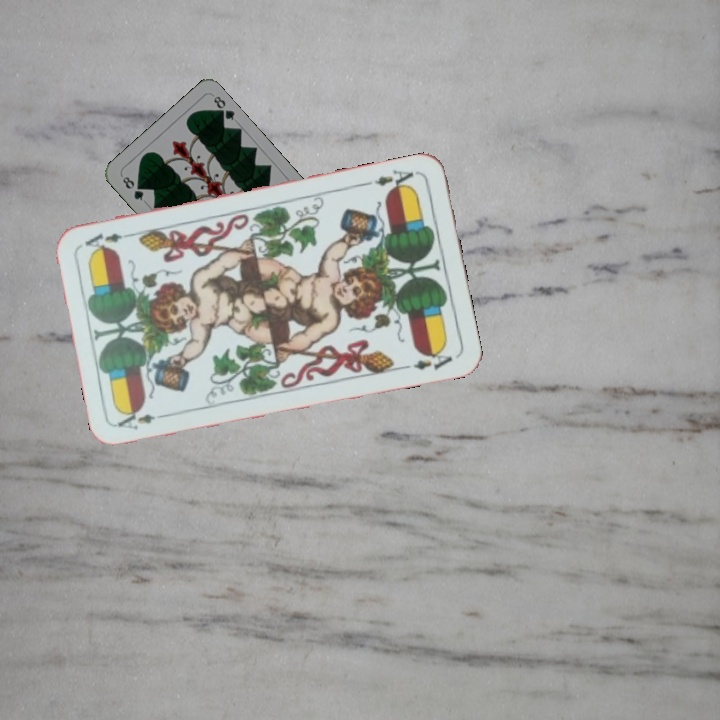EA: (361, 165, 420, 194), (113, 405, 172, 433)
G8: (117, 171, 146, 203)
